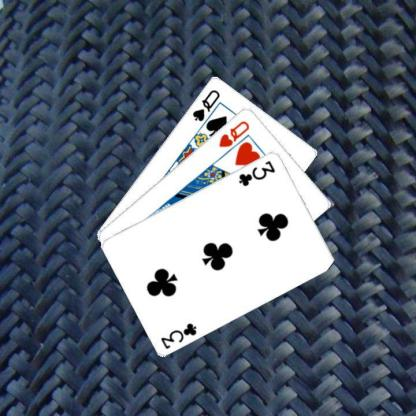3C: (158, 320, 198, 350), (236, 158, 277, 187)
QH: (216, 118, 251, 148)
QS: (190, 86, 222, 122)
